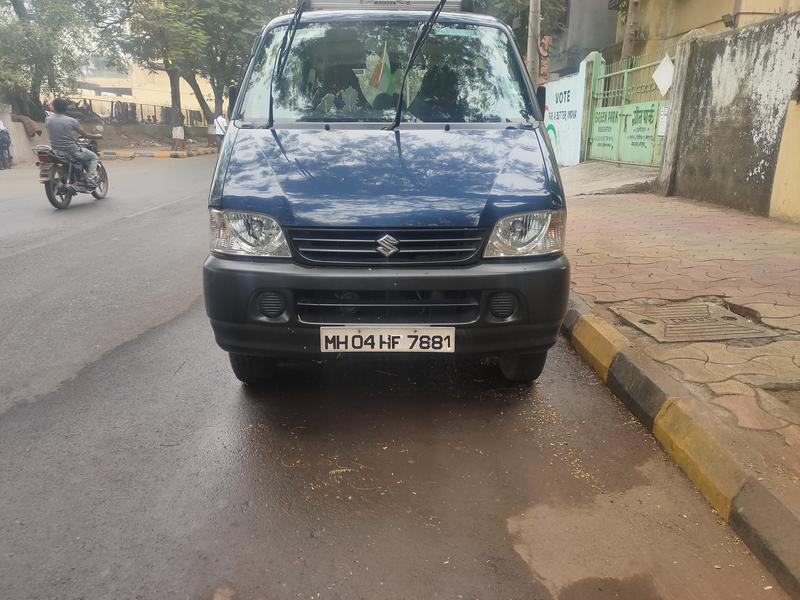license_plate: (308, 318, 469, 364)
